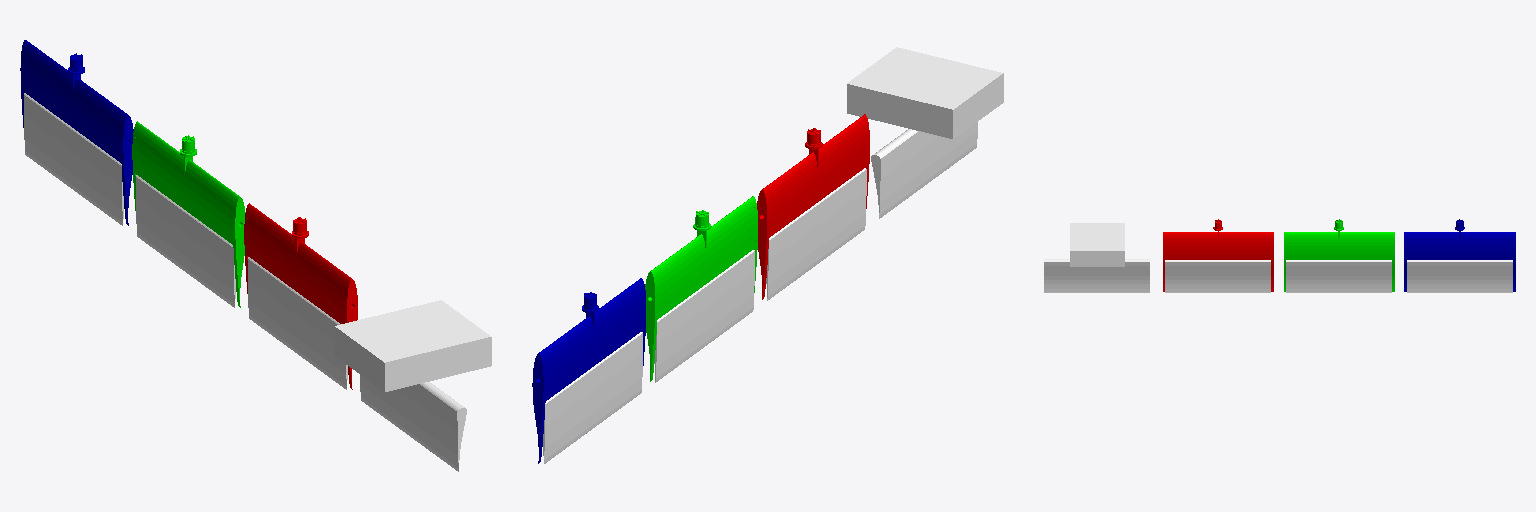
URDF robot description (physics):
<?xml version="1.0"?>
<robot name="physics">


 <!--                                  LINK 0                                   -->
  <link name="link0">
    <visual name='link0_visual'>
        <origin rpy="0 0 0" xyz="0.0 .28 0"/>
        <geometry>
            <box size="0.32 0.26 0.085"/>
        </geometry>
        <material name="Cyan1">
            <color rgba="0 0.9 0.9 1.0"/>
        </material>
      <material name="white">
        <color rgba="1 1 1 1"/>
      </material>
    </visual>
    
    <collision name='link0_collision'>
        <origin rpy="0 0 0" xyz="0 0 -.03 "/>
        <geometry>
            <box size="0.7 0.7 1.4"/>
        </geometry>
    </collision>
    
    <inertial>
      <mass value="1"/>
      <!-- <origin rpy="0 0 0" xyz="-.003 .28 -.01"/> -->
      <origin rpy="0 0 0" xyz="-.003 .28 .01"/>
      <inertia ixx="1.0" ixy="0.0" ixz="0.0" iyy="1.0" iyz="0.0" izz="1.0"/>
    </inertial>
  </link>
 <!--                                  LINK 1                                   -->
 <link name="link1">
    <visual name='link1_visual'>
        <origin rpy="0 0 0" xyz="0.0 .28 0"/>

        <geometry>
            <mesh filename="package://meshes/mist_mainwing.STL" scale="0.001 0.001 0.001"/>
        </geometry>

      <material name="red">
        <color rgba="1 0 0 1"/>
      </material>

    </visual>
    
    <collision name='link1_collision'>
        <origin rpy="0 0 0" xyz="0 0 -.05 "/>
        <geometry>
            <box size="0.7 0.7 0.4"/>
        </geometry>
    </collision>
    
    <inertial>
      <mass value="1"/>
      <!-- <origin rpy="0 0 0" xyz="-.003 .28 -.01"/> -->
      <origin rpy="0 0 0" xyz="-.003 .28 .01"/>
      <inertia ixx="1.0" ixy="0.0" ixz="0.0" iyy="1.0" iyz="0.0" izz="1.0"/>
    </inertial>
  </link>


   <!--                                  LINK 2                                  -->
 <link name="link2">
    <visual name='link2_visual'>
        <origin rpy="0 0 0" xyz="0.0 .28 0"/>

        <geometry>
            <mesh filename="package://meshes/mist_mainwing.STL" scale="0.001 0.001 0.001"/>
        </geometry>
      
      <material name="green">
        <color rgba="0 1 0 1"/>
      </material>
    </visual>
    
    <collision name='link2_collision'>
        <origin rpy="0 0 0" xyz="0 0 -.05 "/>
        <geometry>
            <box size="0.7 0.7 0.4"/>
        </geometry>
    </collision>
    
    <inertial>
      <mass value="1"/>
      <!-- <origin rpy="0 0 0" xyz="-.003 .28 -.01"/> -->
      <origin rpy="0 0 0" xyz="-.003 .28 .01"/>
      <inertia ixx="1.0" ixy="0.0" ixz="0.0" iyy="1.0" iyz="0.0" izz="1.0"/>
    </inertial>
  </link>

     <!--                                  LINK 3                                  -->
 <link name="link3">
    <visual name='link3_visual'>
        <origin rpy="0 0 0" xyz="0.0 .28 0"/>

        <geometry>
            <mesh filename="package://meshes/mist_mainwing.STL" scale="0.001 0.001 0.001"/>
        </geometry>
      <material name="blue">
        <color rgba="0 0 .8 1"/>
      </material>

    </visual>
    
    <collision name='link3_collision'>
        <origin rpy="0 0 0" xyz="0 0 -.05 "/>
        <geometry>
            <box size="0.7 0.7 0.4"/>
        </geometry>
    </collision>
    
    <inertial>
      <mass value="1"/>
      <!-- <origin rpy="0 0 0" xyz="-.003 .28 -.01"/> -->
      <origin rpy="0 0 0" xyz="-.003 .28 .01"/>
      <inertia ixx="1.0" ixy="0.0" ixz="0.0" iyy="1.0" iyz="0.0" izz="1.0"/>
    </inertial>
  </link>


    <joint name="h0_joint" type="revolute">
    <axis xyz="0 0 1"/>
    <parent link="link0"/>
    <child link="link1"/>
    <origin rpy="0 0 0" xyz="0 .58 0"/>
    <limit effort="1" velocity="1" lower="0" upper="1.57079632679"/>
    <joint_properties damping="1.0" friction="0.0"/>
  </joint>

      <joint name="h1_joint" type="revolute">
    <axis xyz="0 0 1"/>
    <parent link="link1"/>
    <child link="link2"/>
    <origin rpy="0 0 0" xyz="0 .58 0"/>
    <limit effort="1" velocity="1" lower="0" upper="1.57079632679"/>
    <joint_properties damping="1.0" friction="0.0"/>
  </joint>

        <joint name="h2_joint" type="revolute">
    <axis xyz="0 0 1"/>
    <parent link="link2"/>
    <child link="link3"/>
    <origin rpy="0 0 0" xyz="0 .58 0"/>
    <limit effort="1" velocity="1" lower="0" upper="1.57079632679"/>
    <joint_properties damping="1.0" friction="0.0"/>
  </joint>





<!--                              control surface 0                       -->
  <link name="ctrlsurf0">
    <visual name='ctrlsurf0_visual'>
        <origin rpy="0 0 0" xyz="0.0 .28 -.05"/>

        <geometry>
            <mesh filename="package://meshes/mist_controlsurface.STL" scale="0.001 0.001 0.001"/>
        </geometry>
      <material name="white">
        <color rgba="1 1 1 1"/>
      </material>
    </visual>
    
    <inertial>
      <mass value=".1"/>
      <inertia ixx="1.0" ixy="0.0" ixz="0.0" iyy="1.0" iyz="0.0" izz="1.0"/>
    </inertial>
  </link>


  <!--                              control surface 1                       -->
  <link name="ctrlsurf1">
    <visual name='ctrlsurf1_visual'>
        <origin rpy="0 0 0" xyz="0.0 .28 -.05"/>

        <geometry>
            <mesh filename="package://meshes/mist_controlsurface.STL" scale="0.001 0.001 0.001"/>
        </geometry>
      <material name="white">
      </material>
    </visual>
    
    <inertial>
      <mass value=".1"/>
      <inertia ixx="1.0" ixy="0.0" ixz="0.0" iyy="1.0" iyz="0.0" izz="1.0"/>
    </inertial>
  </link>


  <!--                              control surface 2                       -->
  <link name="ctrlsurf2">
    <visual name='ctrlsurf2_visual'>
        <origin rpy="0 0 0" xyz="0.0 .28 -.05"/>

        <geometry>
            <mesh filename="package://meshes/mist_controlsurface.STL" scale="0.001 0.001 0.001"/>
        </geometry>
      <material name="white">
      </material>
    </visual>
    
    <inertial>
      <mass value=".1"/>
      <inertia ixx="1.0" ixy="0.0" ixz="0.0" iyy="1.0" iyz="0.0" izz="1.0"/>
    </inertial>
  </link>


  <!--                              control surface 3                       -->
  <link name="ctrlsurf3">
    <visual name='ctrlsurf3_visual'>
        <origin rpy="0 0 0" xyz="0.0 .28 -.05"/>

        <geometry>
            <mesh filename="package://meshes/mist_controlsurface.STL" scale="0.001 0.001 0.001"/>
        </geometry>
      <material name="white">
      </material>
    </visual>
    
    <inertial>
      <mass value=".1"/>
      <inertia ixx="1.0" ixy="0.0" ixz="0.0" iyy="1.0" iyz="0.0" izz="1.0"/>
    </inertial>
  </link>

  <joint name="link0_ctrlsurf0" type="revolute">
    <axis xyz="0 1 0"/>
    <parent link="link0"/>
    <child link="ctrlsurf0"/>
    <origin rpy="0 0 0" xyz="-.003 0 -.08"/>
    <limit effort="1" velocity="1" lower="-1.57079632679" upper="1.57079632679"/>
    <joint_properties damping="1.0" friction="0.0"/>
  </joint>

  <joint name="link1_ctrlsurf1" type="revolute">
    <axis xyz="0 1 0"/>
    <parent link="link1"/>
    <child link="ctrlsurf1"/>
    <origin rpy="0 0 0" xyz="-.003 0 -.08"/>
    <limit effort="1" velocity="1" lower="-1.57079632679" upper="1.57079632679"/>
    <joint_properties damping="1.0" friction="0.0"/>
  </joint>


  <joint name="link2_ctrlsurf2" type="revolute">
    <axis xyz="0 1 0"/>
    <parent link="link2"/>
    <child link="ctrlsurf2"/>
    <origin rpy="0 0 0" xyz="-.003 0 -.08"/>
    <limit effort="1" velocity="1" lower="-1.57079632679" upper="1.57079632679"/>
    <joint_properties damping="1.0" friction="0.0"/>
  </joint>

  <joint name="link3_ctrlsurf3" type="revolute">
    <axis xyz="0 1 0"/>
    <parent link="link3"/>
    <child link="ctrlsurf3"/>
    <origin rpy="0 0 0" xyz="-.003 0 -.08"/>
    <limit effort="1" velocity="1" lower="-1.57079632679" upper="1.57079632679"/>
    <joint_properties damping="1.0" friction="0.0"/>
  </joint>

<!--                               Propeller 0                             -->
<link name="prop0">
    <visual name='prop0_visual'>
        <origin rpy="0 0 0" xyz="0.0 0 -.05"/>

        <geometry>
            <mesh filename="package://meshes/propeller_ccw.dae" scale="0.1 0.1 0.1"/>
        </geometry>
      <material name="blue">
      </material>
    </visual>
    
    <inertial>
      <mass value=".02"/>
      <inertia ixx="1.0" ixy="0.0" ixz="0.0" iyy="1.0" iyz="0.0" izz="1.0"/>
    </inertial>
  </link>

<!--                               Propeller 1                             -->
<link name="prop1">
    <visual name='prop1_visual'>
        <origin rpy="0 0 0" xyz="0.0 0 -.05"/>

        <geometry>
            <mesh filename="package://meshes/propeller_ccw.dae" scale="0.1 0.1 0.1"/>
        </geometry>
      <material name="blue">
      </material>
    </visual>
    
    <inertial>
      <mass value=".02"/>
      <inertia ixx="1.0" ixy="0.0" ixz="0.0" iyy="1.0" iyz="0.0" izz="1.0"/>
    </inertial>
  </link>


  <!--                               Propeller 2                             -->
<link name="prop2">
    <visual name='prop2_visual'>
        <origin rpy="0 0 0" xyz="0.0 0 -.05"/>

        <geometry>
            <mesh filename="package://meshes/propeller_ccw.dae" scale="0.1 0.1 0.1"/>
        </geometry>
      <material name="blue">
      </material>
    </visual>
    
    <inertial>
      <mass value=".02"/>
      <inertia ixx="1.0" ixy="0.0" ixz="0.0" iyy="1.0" iyz="0.0" izz="1.0"/>
    </inertial>
  </link>



  <!--                               Propeller 3                             -->
<link name="prop3">
    <visual name='prop3_visual'>
        <origin rpy="0 0 0" xyz="0.0 0 -.05"/>

        <geometry>
            <mesh filename="package://meshes/propeller_ccw.dae" scale="0.1 0.1 0.1"/>
        </geometry>
      <material name="blue">
      </material>
    </visual>
    
    <inertial>
      <mass value=".02"/>
      <inertia ixx="1.0" ixy="0.0" ixz="0.0" iyy="1.0" iyz="0.0" izz="1.0"/>
    </inertial>
  </link>



  <joint name="link0_prop0" type="continuous">
    <axis xyz="0 0 1"/>
    <parent link="link0"/>
    <child link="prop0"/>
    <origin rpy="0 0 0" xyz="-.003 .28 .185"/>
    <!-- <limit effort="1" velocity="1" lower="-1.57079632679" upper="1.57079632679"/> -->
    <joint_properties damping="1.0" friction="0.0"/>
  </joint>

  <joint name="link1_prop1" type="continuous">
    <axis xyz="0 0 1"/>
    <parent link="link1"/>
    <child link="prop1"/>
    <origin rpy="0 0 0" xyz="-.003 .28 .185"/>
    <!-- <limit effort="1" velocity="1" lower="-1.57079632679" upper="1.57079632679"/> -->
    <joint_properties damping="1.0" friction="0.0"/>
  </joint>

  <joint name="link2_prop2" type="continuous">
    <axis xyz="0 0 1"/>
    <parent link="link2"/>
    <child link="prop2"/>
    <origin rpy="0 0 0" xyz="-.003 .28 .185"/>
    <!-- <limit effort="1" velocity="1" lower="-1.57079632679" upper="1.57079632679"/> -->
    <joint_properties damping="1.0" friction="0.0"/>
  </joint>

  <joint name="link3_prop3" type="continuous">
    <axis xyz="0 0 1"/>
    <parent link="link3"/>
    <child link="prop3"/>
    <origin rpy="0 0 0" xyz="-.003 .28 .185"/>
    <!-- <limit effort="1" velocity="1" lower="-1.57079632679" upper="1.57079632679"/> -->
    <joint_properties damping="1.0" friction="0.0"/>
  </joint>





</robot>

--- Facts derived from the render (not from the file) ---
The picture shows the robot from 3 angles, left to right: view 1: azimuth 30°, elevation 25°; view 2: azimuth 150°, elevation 25°; view 3: azimuth 270°, elevation 25°; orthographic projection.
Model physics with 12 links and 11 joints (7 revolute, 4 continuous), rooted at link0, posed every joint at zero.
Links seen in each view (by area): view 1: link0, link2, link3, link1, ctrlsurf3, ctrlsurf2, ctrlsurf1, ctrlsurf0; view 2: link0, link3, link2, link1, ctrlsurf1, ctrlsurf2, ctrlsurf3, ctrlsurf0; view 3: ctrlsurf1, ctrlsurf2, ctrlsurf3, link3, link2, link1, ctrlsurf0, link0.
Link boxes in pixels (bbox=[...]): link0: bbox=[334, 300, 491, 391]; link2: bbox=[132, 121, 245, 307]; link3: bbox=[20, 40, 133, 225]; link1: bbox=[244, 203, 357, 389]; ctrlsurf3: bbox=[24, 93, 123, 225]; ctrlsurf2: bbox=[136, 175, 235, 307]; ctrlsurf1: bbox=[248, 257, 347, 389]; ctrlsurf0: bbox=[360, 375, 466, 471]; link0: bbox=[847, 47, 1003, 138]; link3: bbox=[532, 278, 645, 463]; link2: bbox=[645, 196, 757, 381]; link1: bbox=[757, 114, 869, 299]; ctrlsurf1: bbox=[766, 168, 866, 300]; ctrlsurf2: bbox=[654, 250, 754, 382]; ctrlsurf3: bbox=[543, 332, 642, 463]; ctrlsurf0: bbox=[871, 122, 977, 218]; ctrlsurf1: bbox=[1165, 260, 1270, 292]; ctrlsurf2: bbox=[1286, 260, 1391, 292]; ctrlsurf3: bbox=[1407, 260, 1512, 292]; link3: bbox=[1404, 219, 1515, 291]; link2: bbox=[1284, 219, 1394, 291]; link1: bbox=[1163, 219, 1273, 291]; ctrlsurf0: bbox=[1044, 259, 1149, 292]; link0: bbox=[1070, 223, 1124, 266].
Size in the robot's own frame: 0.32 by 2.26 by 0.3912 metres.
Meshes: 3 distinct files referenced, 7 mesh visuals loaded (2 binary STL); not drawn: 4 (reference not matched to a file when rendering).